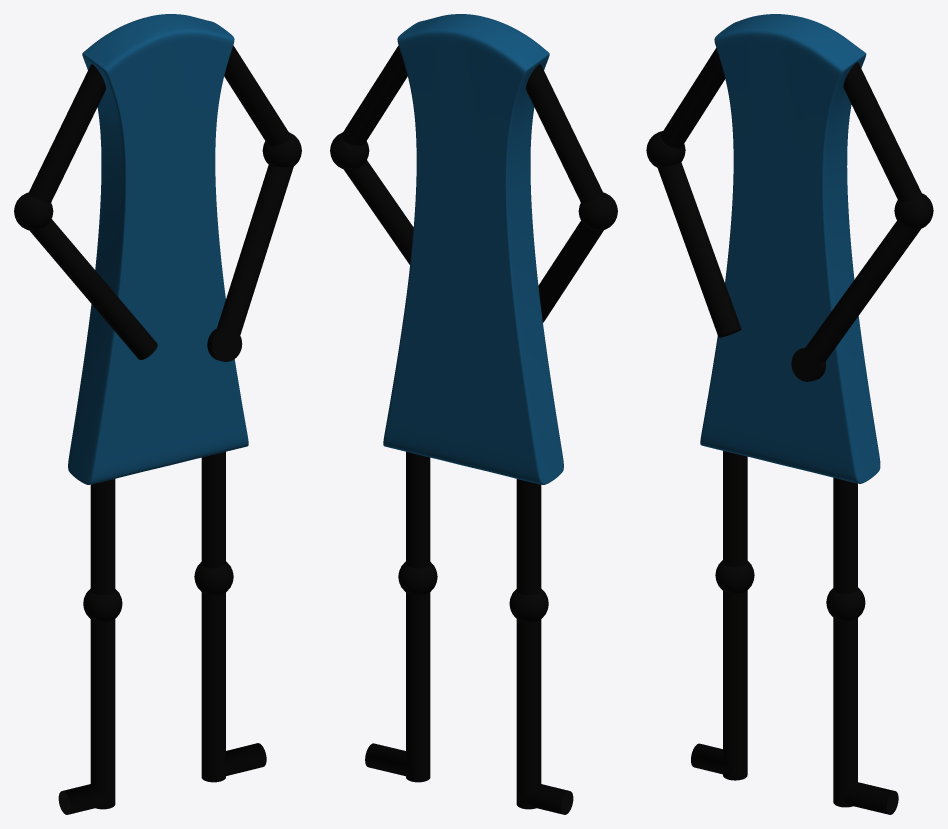
The picture shows the model from 3 angles, left to right: view 1: azimuth 30°, elevation 25°; view 2: azimuth 150°, elevation 25°; view 3: azimuth 330°, elevation 25°; orthographic projection.
Parts seen in each view (by area): view 1: MaleBody, leftForeLeg, rightForeLeg, LeftForeArm, RightForeArm, RightUpperArm, rightUpperLeg, LeftUpperLeg, LeftUpperArm, rightUpperArmSphere, rightFoot, leftFoot (+4 smaller); view 2: MaleBody, leftForeLeg, rightForeLeg, RightUpperArm, rightUpperLeg, LeftUpperLeg, LeftUpperArm, LeftForeArm, RightForeArm, rightUpperArmSphere, rightFoot, leftFoot (+3 smaller); view 3: MaleBody, rightForeLeg, RightForeArm, leftForeLeg, LeftForeArm, LeftUpperArm, LeftUpperLeg, rightUpperLeg, RightUpperArm, leftFoot, LeftUpperArmSphere, leftUpperLegSphere (+4 smaller).
Part boxes in pixels (x1,y1,x2,y2): MaleBody: [68, 14, 248, 484]; leftForeLeg: [201, 592, 225, 782]; rightForeLeg: [90, 619, 115, 809]; LeftForeArm: [217, 165, 293, 335]; RightForeArm: [30, 219, 157, 359]; RightUpperArm: [28, 64, 105, 202]; rightUpperLeg: [90, 479, 115, 594]; LeftUpperLeg: [201, 451, 225, 568]; LeftUpperArm: [224, 45, 290, 145]; rightUpperArmSphere: [14, 192, 53, 230]; rightFoot: [58, 784, 113, 814]; leftFoot: [223, 743, 266, 775]; MaleBody: [383, 14, 563, 484]; leftForeLeg: [406, 592, 430, 782]; rightForeLeg: [516, 619, 541, 809]; RightUpperArm: [526, 64, 603, 202]; rightUpperLeg: [516, 479, 541, 594]; LeftUpperLeg: [406, 451, 430, 568]; LeftUpperArm: [341, 45, 407, 145]; LeftForeArm: [344, 160, 413, 264]; RightForeArm: [538, 221, 603, 322]; rightUpperArmSphere: [578, 192, 617, 230]; rightFoot: [518, 784, 573, 814]; leftFoot: [365, 743, 408, 776]; MaleBody: [700, 14, 880, 483]; rightForeLeg: [723, 590, 747, 780]; RightForeArm: [657, 162, 741, 337]; leftForeLeg: [833, 618, 857, 807]; LeftForeArm: [805, 221, 920, 362]; LeftUpperArm: [843, 62, 921, 201]; LeftUpperLeg: [833, 477, 857, 593]; rightUpperLeg: [723, 451, 747, 566]; RightUpperArm: [661, 48, 725, 148]; leftFoot: [844, 782, 898, 814]; LeftUpperArmSphere: [894, 193, 933, 229]; leftUpperLegSphere: [826, 587, 865, 621].
Bounding box in the file's own units: 133 × 345 × 35.4.
